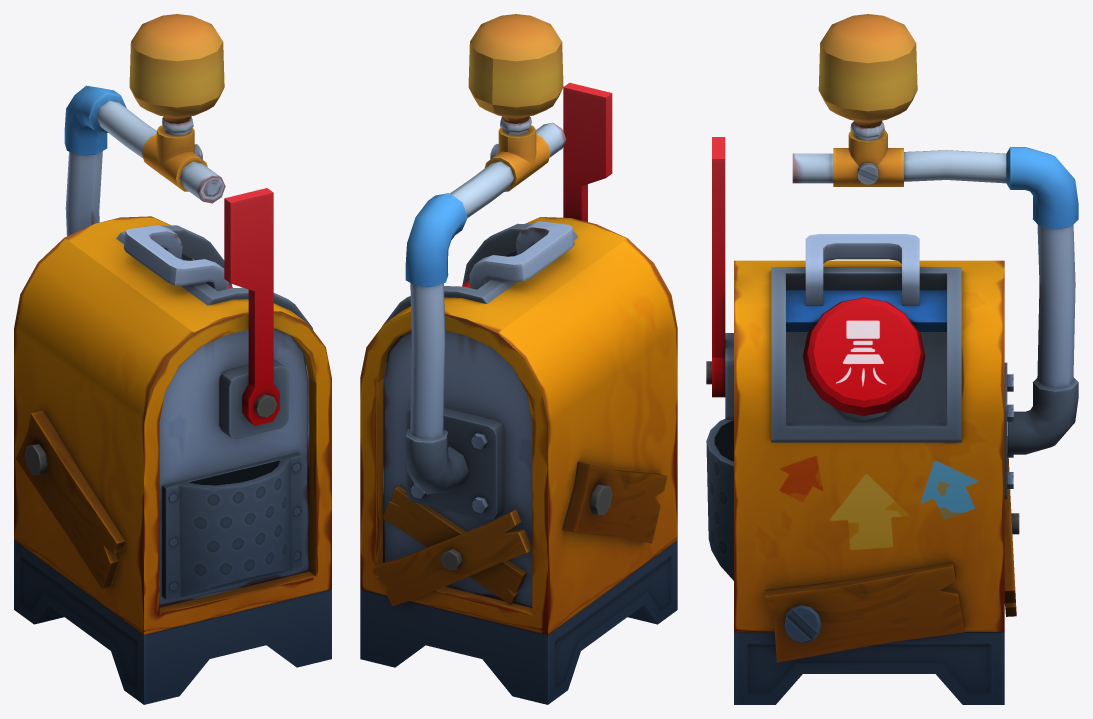
Rendered from obj_survivalobjects_pumpbutton_on.fbx.
3 renders of one model, left to right at view 1: azimuth 30°, elevation 25°; view 2: azimuth 150°, elevation 25°; view 3: azimuth 270°, elevation 25°, orthographic. The views are drawn at different scales.
Visible parts, largest first — view 1: env_hideout_pumpbutton_on; view 2: env_hideout_pumpbutton_on; view 3: env_hideout_pumpbutton_on.
Part boxes in pixels (x1,y1,x2,y2): env_hideout_pumpbutton_on: (14, 14, 331, 704); env_hideout_pumpbutton_on: (360, 14, 677, 704); env_hideout_pumpbutton_on: (706, 14, 1078, 704).
Bounding box in the file's own units: 3.72 × 9.13 × 4.83.
